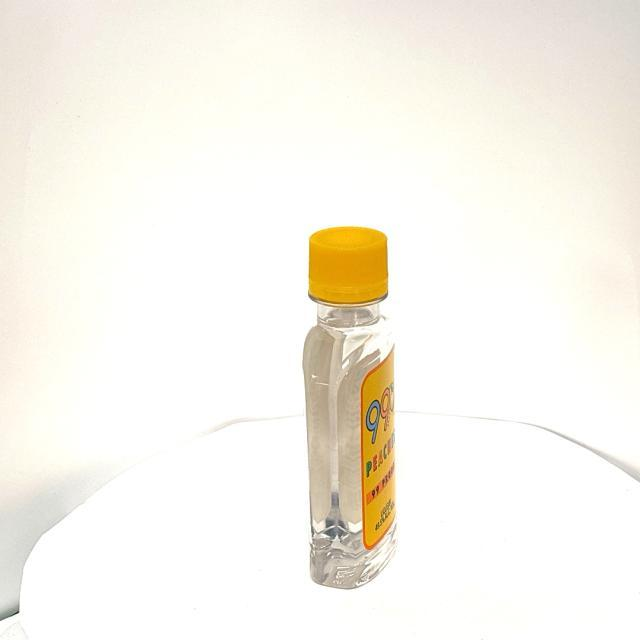99 PEACHES 100ML: (300, 227, 401, 594)
